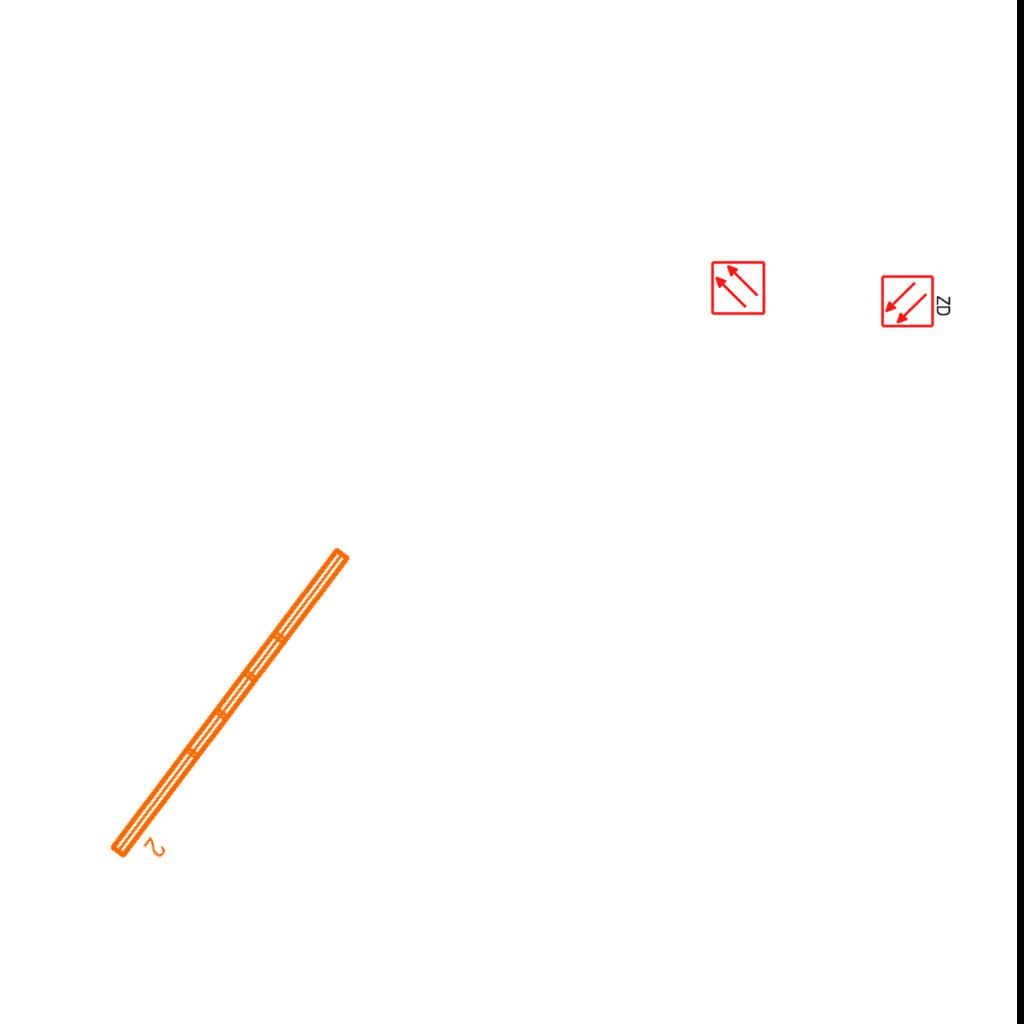Ambulanz_Pendelleuchte_LED: (101, 538, 380, 882)
RMO_Rauchmelder_optischer: (710, 260, 766, 316)
ZD_Melder_in_Zwischendecke_mit_Revisionsoeffnung_mind_40_x_40_cm: (880, 272, 954, 329)
